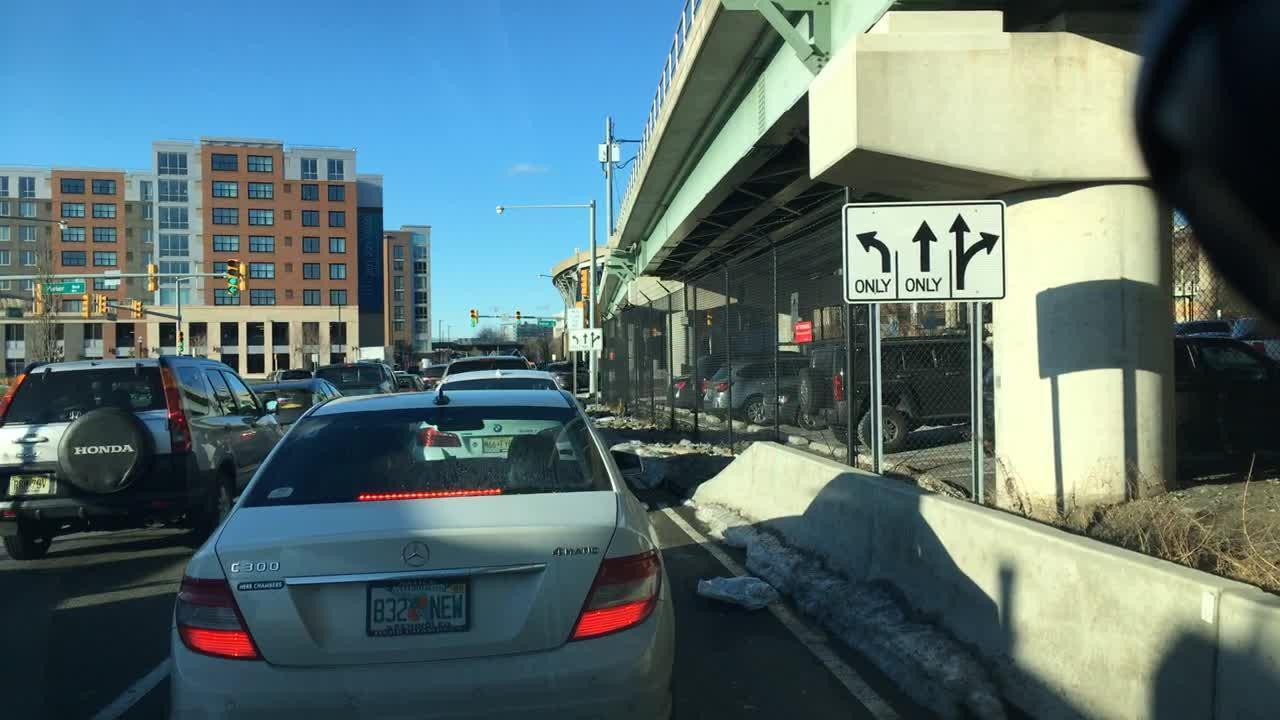Mercedes: (392, 533, 441, 576)
